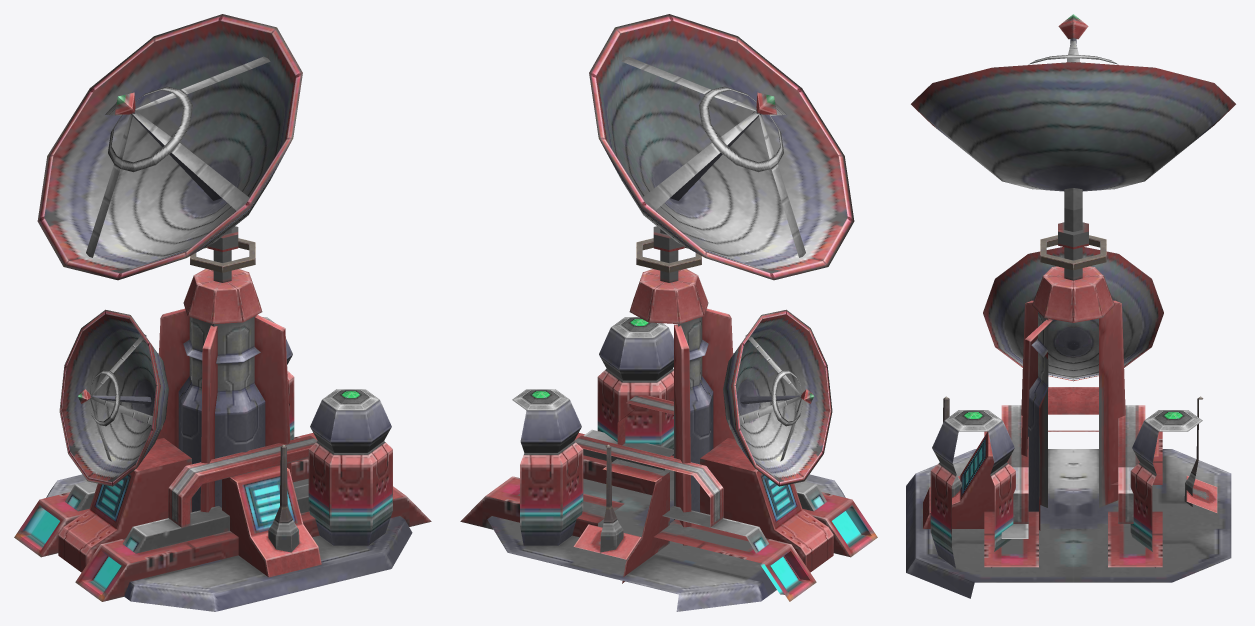
3 renders of one model, left to right at view 1: azimuth 30°, elevation 25°; view 2: azimuth 150°, elevation 25°; view 3: azimuth 270°, elevation 25°, orthographic.
Parts seen in each view (by area): view 1: build4_3; view 2: build4_3; view 3: build4_3.
Part boxes in pixels (x1=…): build4_3: x1=14, y1=14, x2=431, y2=611; build4_3: x1=460, y1=14, x2=877, y2=611; build4_3: x1=906, y1=14, x2=1235, y2=598.
Bounding box in the file's own units: 9.26 × 13.13 × 8.05.
Materials: 1 (1 with a texture image).
